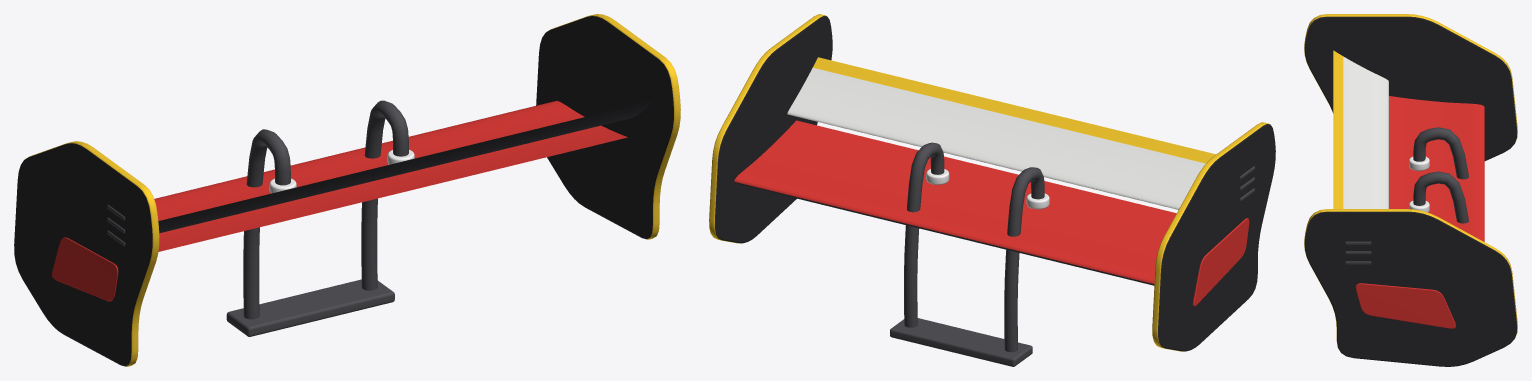
File: spoiler_twin.glb
3 renders of one model, left to right at view 1: azimuth 30°, elevation 25°; view 2: azimuth 150°, elevation 25°; view 3: azimuth 270°, elevation 25°, orthographic. The views are drawn at different scales.
Parts seen in each view (by area): view 1: spoiler_twin; view 2: spoiler_twin; view 3: spoiler_twin.
Part boxes in pixels (x1,y1,x2,y2): spoiler_twin: [14, 14, 680, 366]; spoiler_twin: [709, 14, 1275, 366]; spoiler_twin: [1304, 14, 1517, 366].
Bounding box in the file's own units: 1.08 × 0.5003 × 0.4907.
